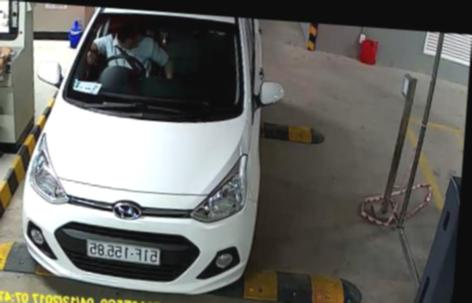License_Plate: (83, 238, 166, 265)
